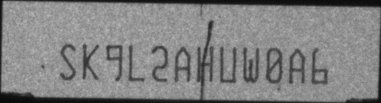0: (265, 47, 282, 84)
2: (151, 44, 170, 82)
6: (310, 47, 327, 85)
9: (105, 43, 123, 81)
A: (173, 46, 193, 83), (288, 47, 307, 85)
H: (197, 46, 214, 83)
K: (82, 42, 100, 81)
L: (127, 44, 147, 81)
S: (59, 44, 76, 80)
U: (217, 45, 237, 84)
W: (242, 46, 261, 84)
